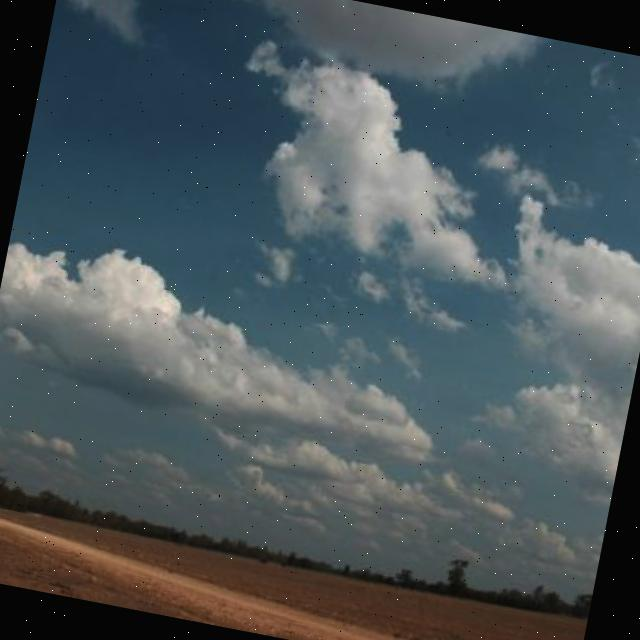Cu: (1, 14, 640, 521)
